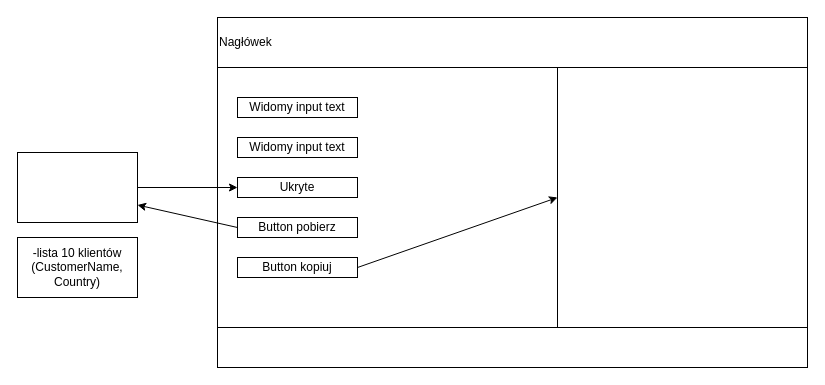
This 825x385 diagram has some shape labels left out. The box of each missing label's shape, as (x1, y1, x2, y2) in pixels:
skrypt w PHP pobiera dane z bazy w3schools: (16, 152, 138, 222)
Stopka: (216, 326, 808, 368)
tekst pola ukrytego: (556, 66, 808, 328)
